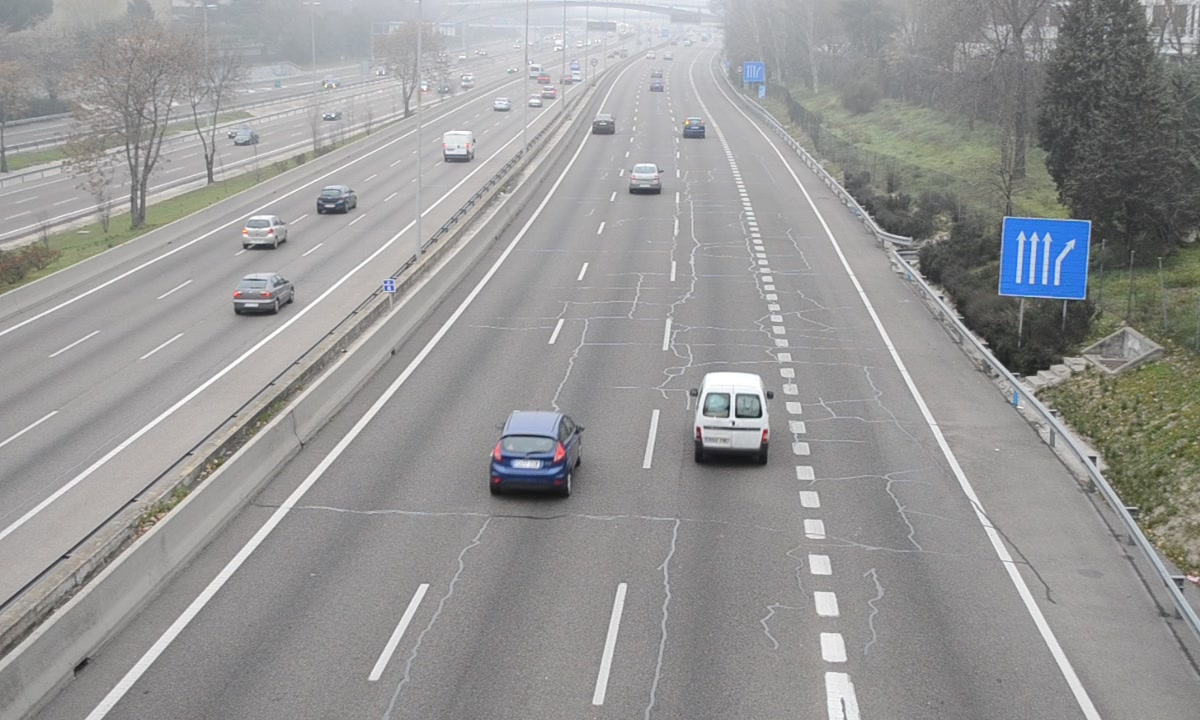car: (490, 411, 581, 490), (629, 162, 663, 196), (682, 117, 707, 139), (593, 112, 616, 133)
van: (695, 371, 770, 461)
